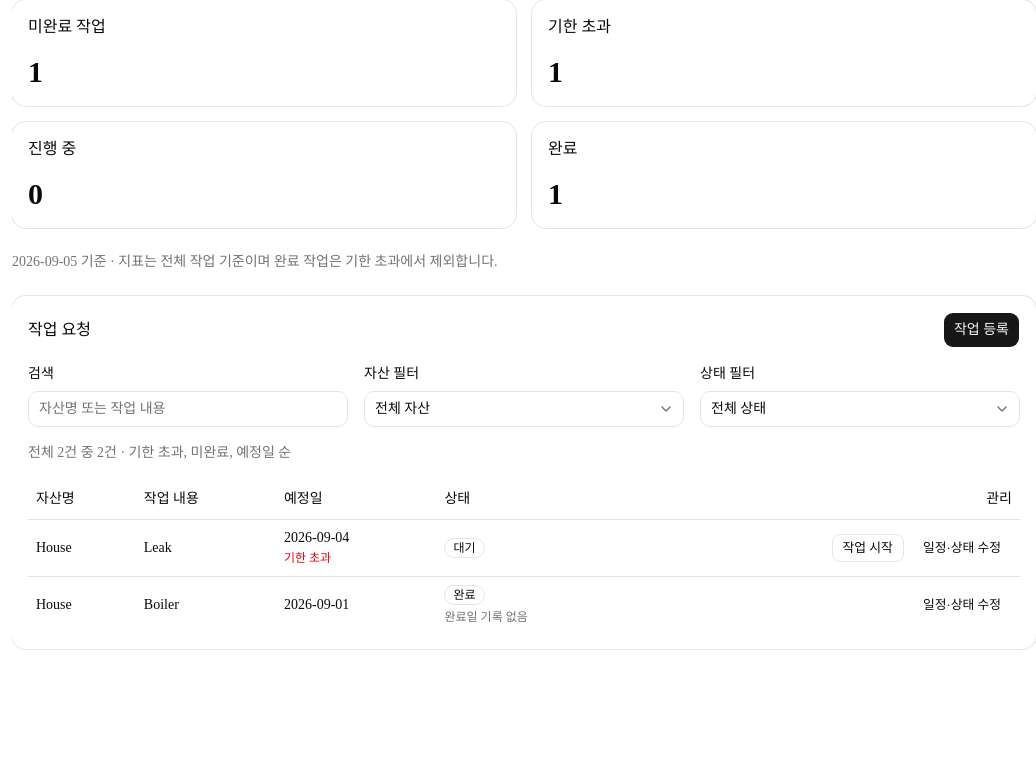
starts a pending task and reports permission failures inline
The image size is (1036, 768).
Click the button with aria-label "Leak 작업 시작" at [868, 548], box [832, 534, 904, 562]
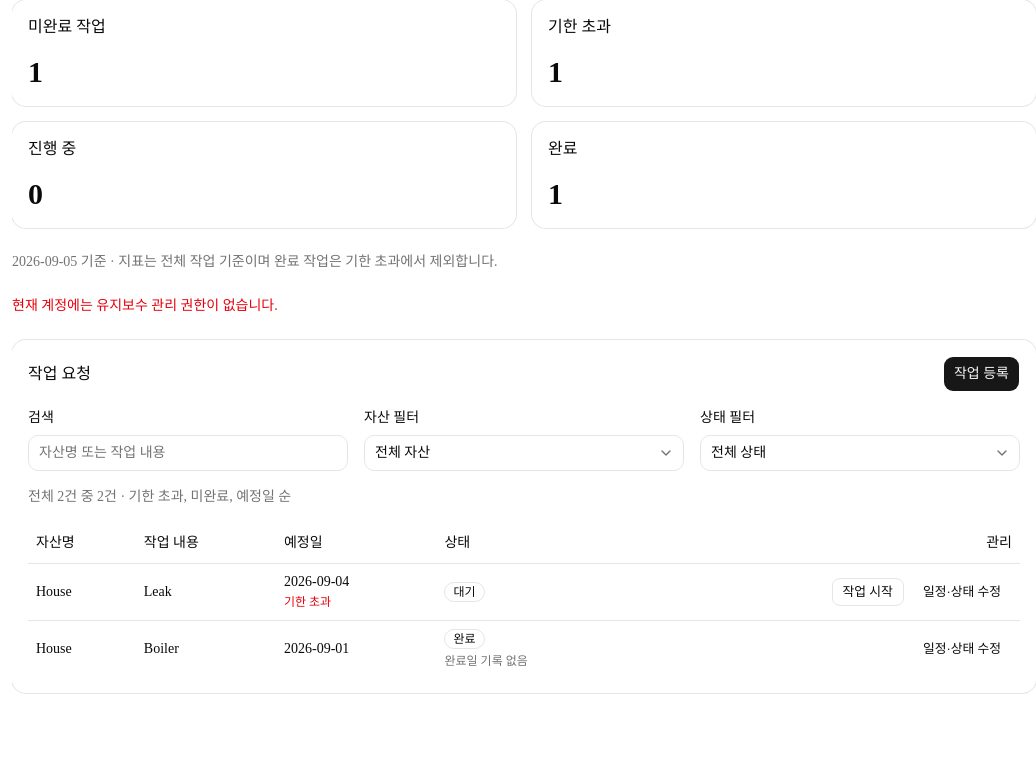
Now the message shows "권한", box [12, 298, 278, 313]
